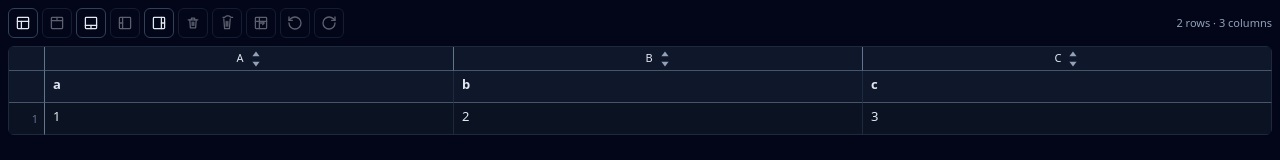
it: DataGrid (reusable grid) › Ctrl+click selects multiple columns and Delete columns removes them all
The width and height of the screenshot is (1280, 160).
Press the mouse on the column heading "B" at (658, 59), box [454,47,863,71]
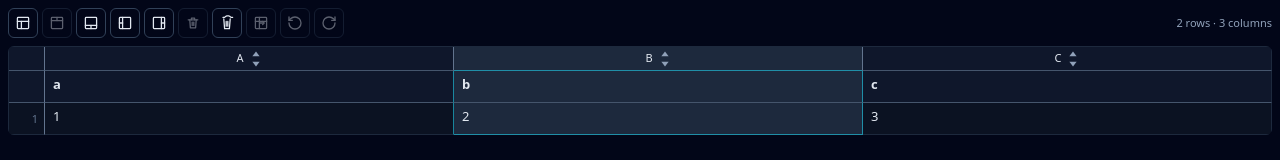
Press the mouse on the column heading "C" at (1068, 59), box [863,47,1272,71]
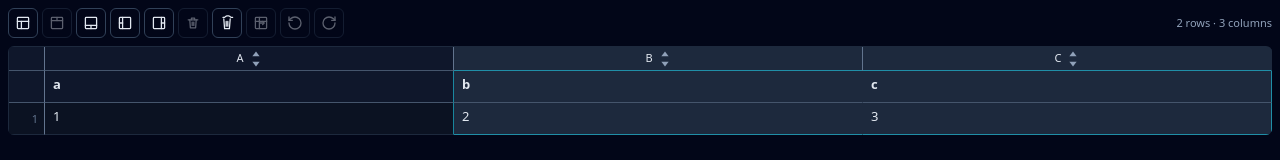
Click the button named "Delete columns" at (227, 23), box [212,8,242,38]
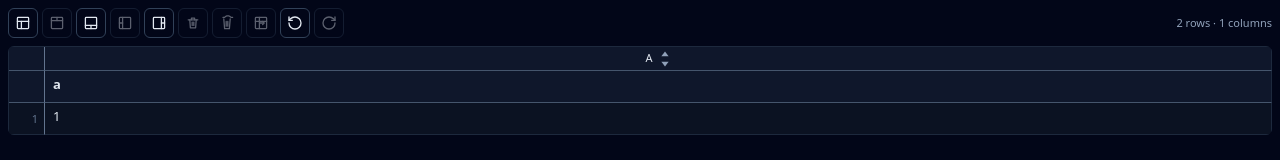
Expected: the element with test id "data-grid" shows "2 rows · 1 columns", [1176,15,1272,30]
